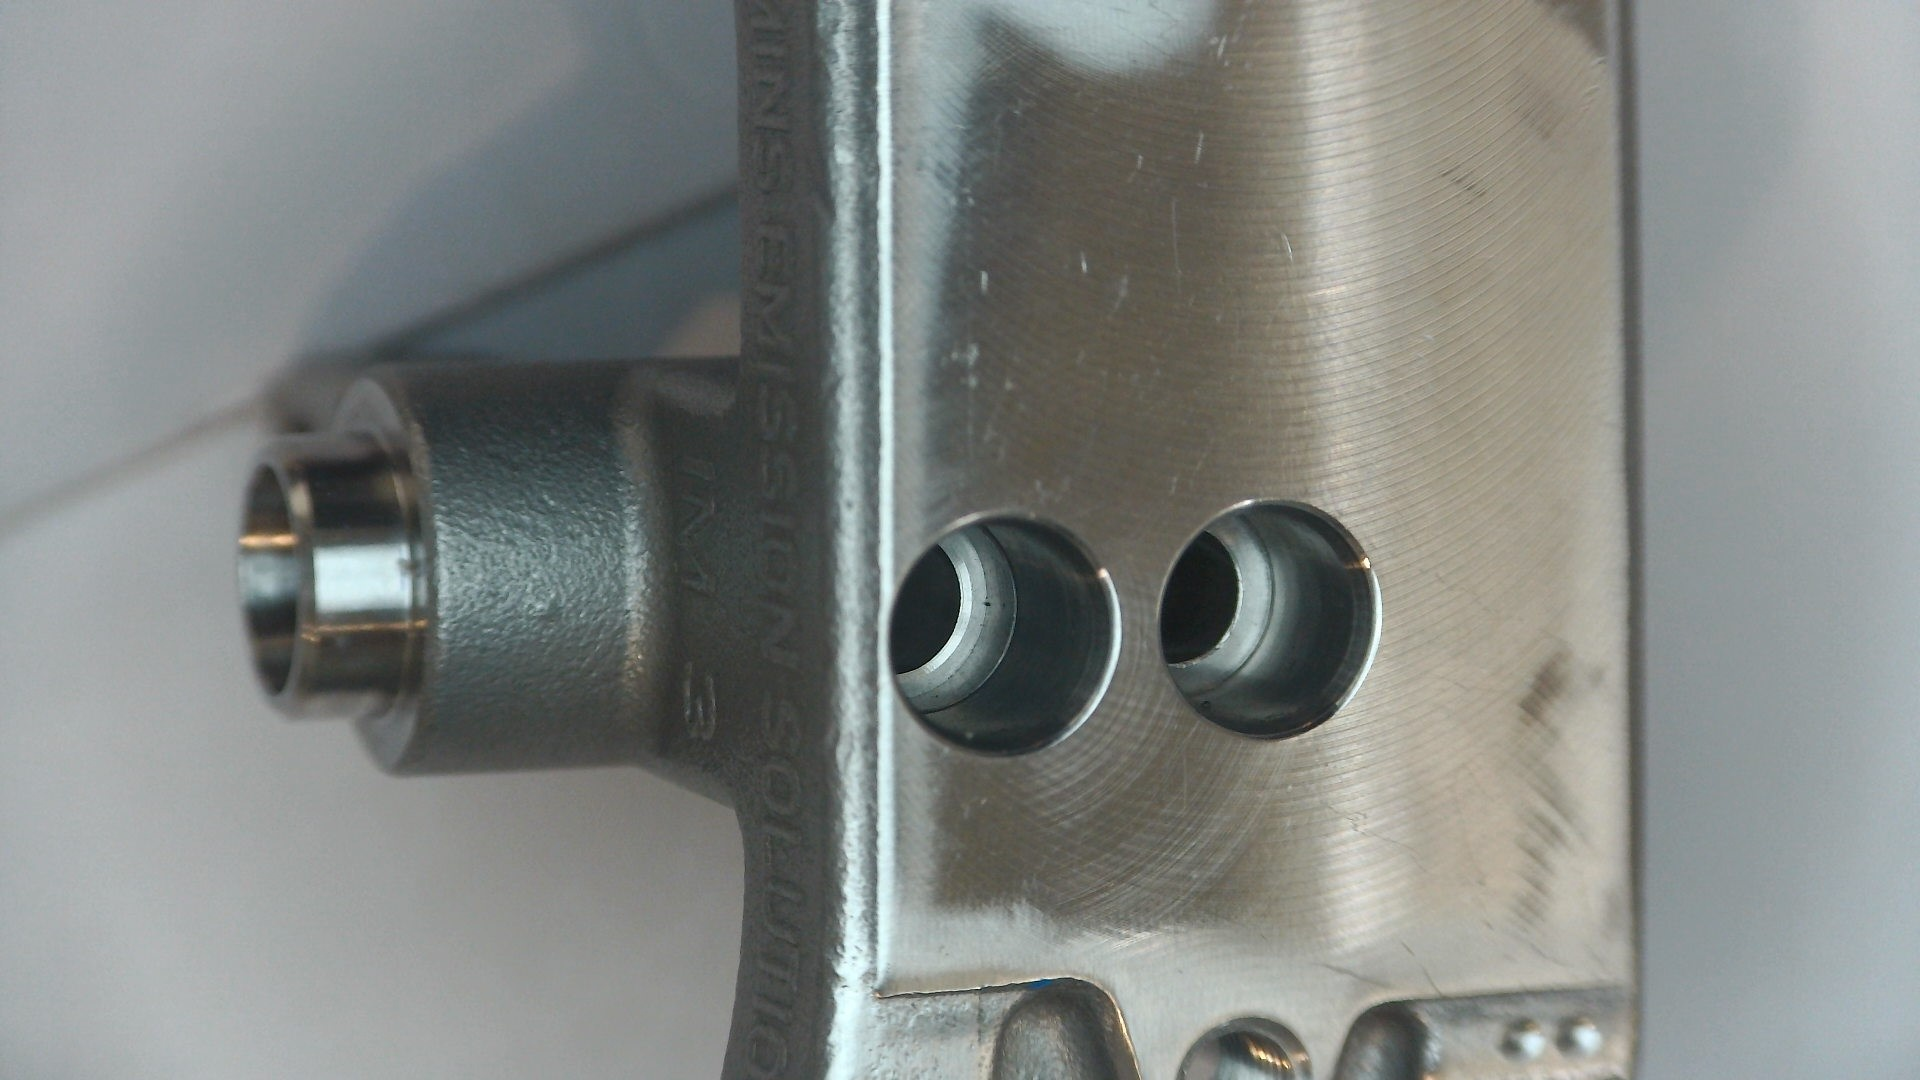thread_absence: (882, 498, 1131, 767), (1149, 493, 1385, 749)
